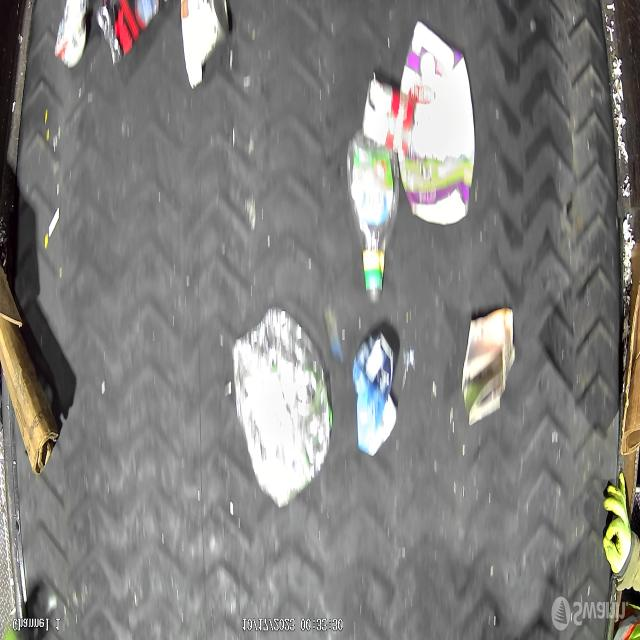can: (180, 0, 232, 90)
non_white_jug: (398, 21, 476, 226)
plastic_bottle: (349, 134, 400, 302)
